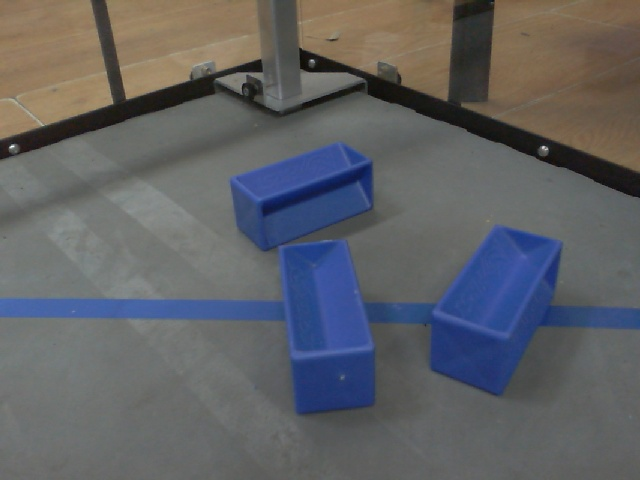BlueSample: (422, 219, 569, 396), (272, 237, 378, 414), (226, 140, 380, 250)
